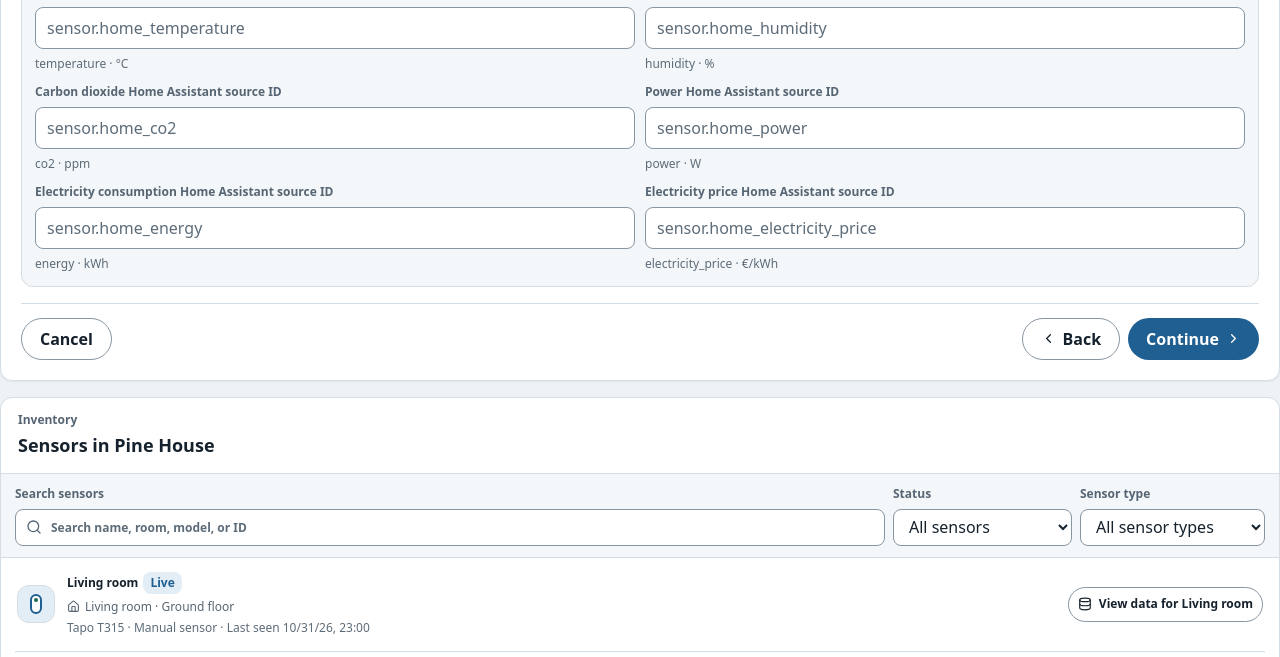
Test: sensor onboarding and management › opens placement for a just-saved energy device before its first live inventory arrives
(page scrolled)
Click the button "Continue" at (1194, 339), box left=1128, top=318, right=1259, bottom=360
(page scrolled)
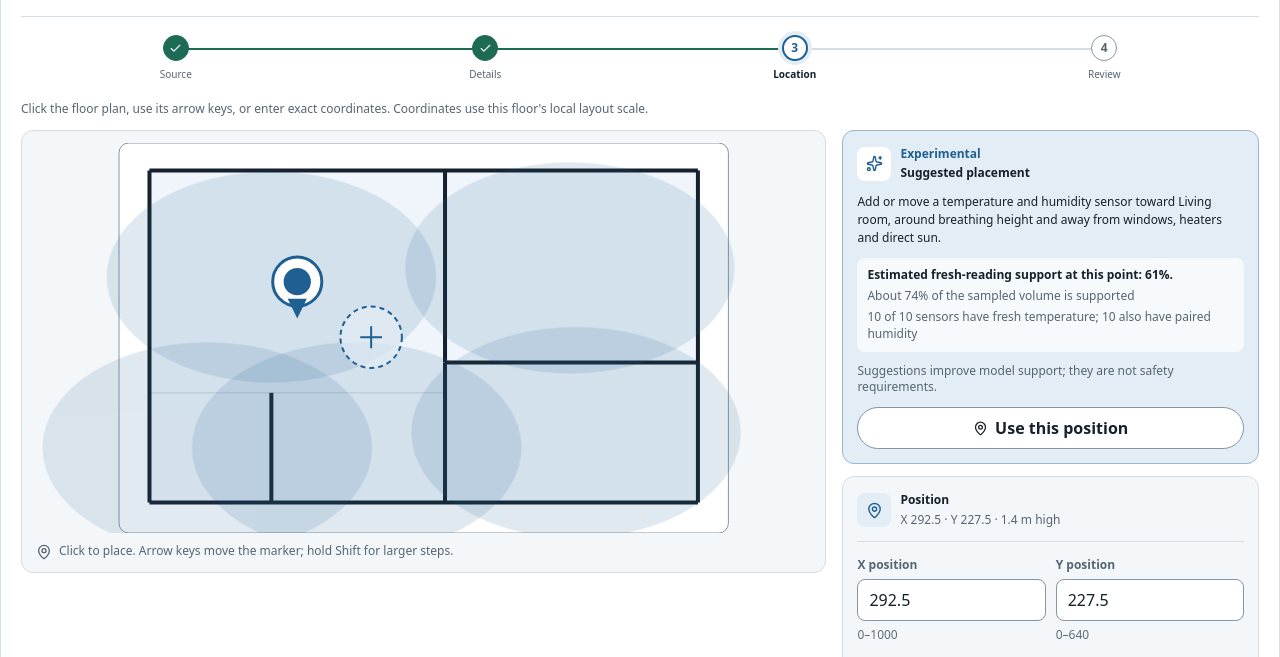
Now the icon named "Placement map" is shown, box left=34, top=144, right=813, bottom=534
